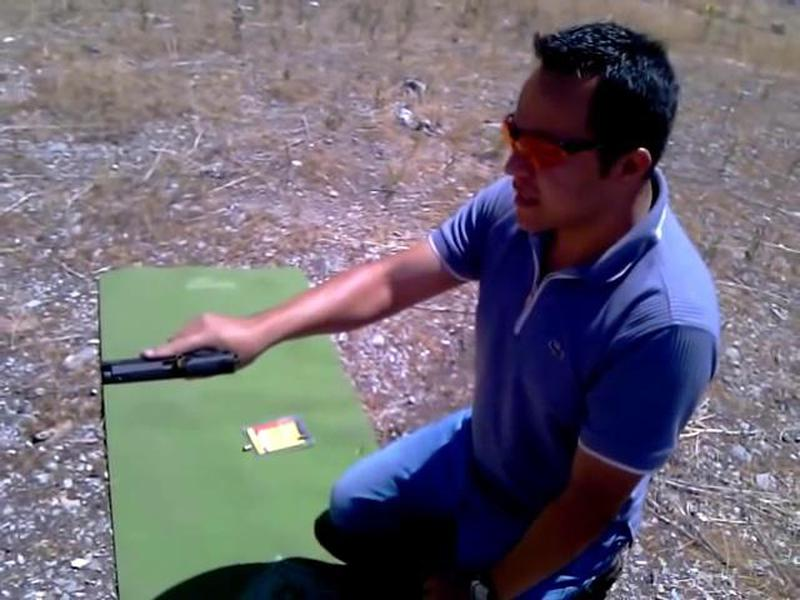Pistola: (93, 328, 248, 402)
